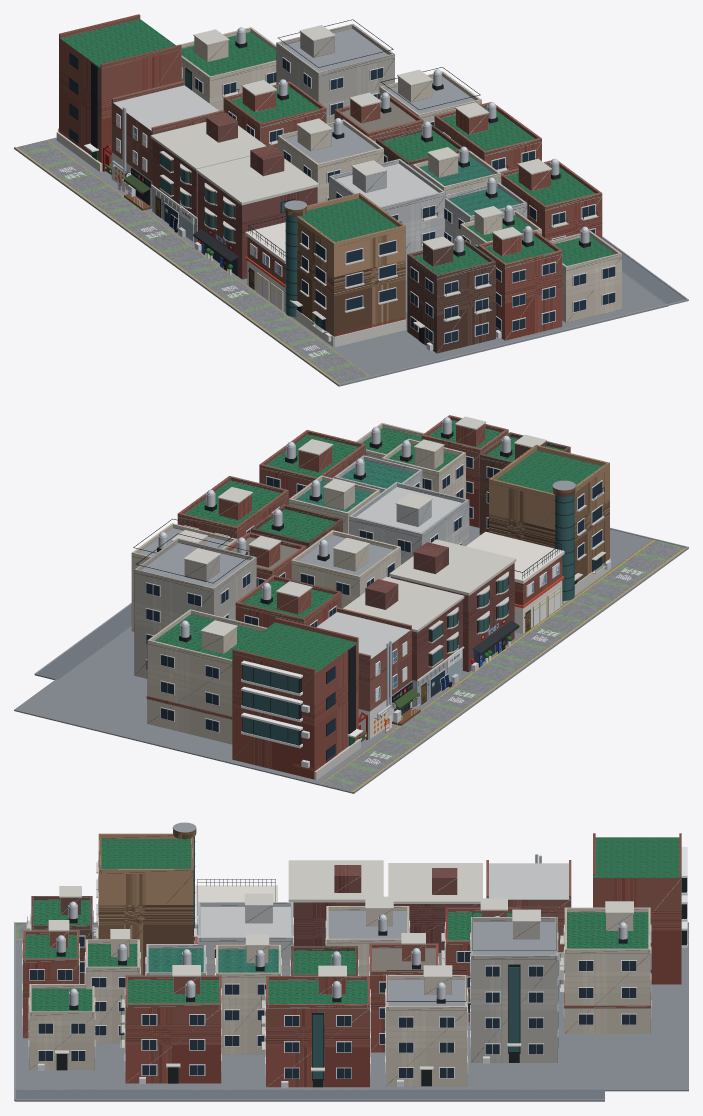
File: place_금북초앞주택가.glb
3 views of the same model, one above another, from view 1: azimuth 30°, elevation 25°; view 2: azimuth 150°, elevation 25°; view 3: azimuth 270°, elevation 25° (orthographic). The views are drawn at different scales.
Visible parts, largest first — view 1: West_Haengdangro1gil_AlleyStrip, B1_10_4F_StackedStoneVilla, B6_16_4F_RedBrickVilla, Compact_ResidentialBlock_GroundSlab, B19_12_16_DarkBrownBrick_3F, B8_HRDCompany_4F, Merged_Villa_Glass (×2), B20_12_27_RedBrick_3F, B5_DDDon_2F3F_RedBrick, Merged_Villa_PentCap (×3), B12_12_6_LightGray_3F, B21_7_1_SECorner_2F (+55 smaller); view 2: Compact_ResidentialBlock_GroundSlab, West_Haengdangro1gil_AlleyStrip, B6_16_4F_RedBrickVilla, B1_10_4F_StackedStoneVilla, B7_DesignPlus_3F, B8_HRDCompany_4F, Merged_Villa_PentCap (×3), B5_DDDon_2F3F_RedBrick, B12_12_6_LightGray_3F, Merged_Villa_Glass (×3), Merged_B3_WhiteCornice, Merged_B4_TopCornice (+56 smaller); view 3: Compact_ResidentialBlock_GroundSlab, B1_10_4F_StackedStoneVilla, B8_HRDCompany_4F, B6_16_4F_RedBrickVilla, B16_11_EastRedBrick_3F, B7_DesignPlus_3F, Merged_Villa_Glass (×3), B18a_9_EastVilla_3F, B10_13_EastEdge_3F, East_Haengdangro3gil_AlleyStrip, Merged_Villa_WhiteFrames (×3), Merged_Villa_PentCap (×3) (+44 smaller).
Part boxes in pixels (box(x1,y1,x2,y2)): West_Haengdangro1gil_AlleyStrip: box(14, 140, 372, 386); B1_10_4F_StackedStoneVilla: box(297, 198, 405, 336); B6_16_4F_RedBrickVilla: box(59, 19, 181, 171); Compact_ResidentialBlock_GroundSlab: box(47, 137, 668, 378); B19_12_16_DarkBrownBrick_3F: box(407, 244, 495, 353); B8_HRDCompany_4F: box(276, 28, 394, 123); Merged_Villa_Glass (×2): box(195, 58, 615, 343); B20_12_27_RedBrick_3F: box(485, 236, 562, 340); B5_DDDon_2F3F_RedBrick: box(111, 85, 219, 181); Merged_Villa_PentCap (×3): box(193, 25, 551, 249); B12_12_6_LightGray_3F: box(329, 163, 445, 282); B21_7_1_SECorner_2F: box(554, 236, 621, 322); Compact_ResidentialBlock_GroundSlab: box(14, 525, 651, 785); West_Haengdangro1gil_AlleyStrip: box(318, 539, 688, 793); B6_16_4F_RedBrickVilla: box(232, 622, 358, 779); B1_10_4F_StackedStoneVilla: box(489, 450, 609, 582); B7_DesignPlus_3F: box(147, 614, 261, 744); B8_HRDCompany_4F: box(134, 543, 256, 678); Merged_Villa_PentCap (×3): box(171, 416, 546, 636); B5_DDDon_2F3F_RedBrick: box(316, 612, 411, 711); B12_12_6_LightGray_3F: box(349, 487, 469, 564); Merged_Villa_Glass (×3): box(146, 457, 500, 731); Merged_B3_WhiteCornice: box(389, 539, 516, 595); Merged_B4_TopCornice: box(343, 576, 464, 632); Compact_ResidentialBlock_GroundSlab: box(15, 939, 688, 1091); B1_10_4F_StackedStoneVilla: box(98, 839, 193, 975); B8_HRDCompany_4F: box(471, 921, 557, 1062); B6_16_4F_RedBrickVilla: box(593, 837, 681, 984); B16_11_EastRedBrick_3F: box(266, 980, 369, 1087); B7_DesignPlus_3F: box(564, 912, 650, 1033); Merged_Villa_Glass (×3): box(30, 911, 636, 1078); B18a_9_EastVilla_3F: box(125, 980, 221, 1083); B10_13_EastEdge_3F: box(386, 979, 467, 1086); East_Haengdangro3gil_AlleyStrip: box(15, 1089, 604, 1101); Merged_Villa_WhiteFrames (×3): box(22, 910, 651, 1078); Merged_Villa_PentCap (×3): box(48, 886, 633, 977).
Bounding box in the file's own units: 46.42 × 15.01 × 74.61.
61 materials, 27 textured.
